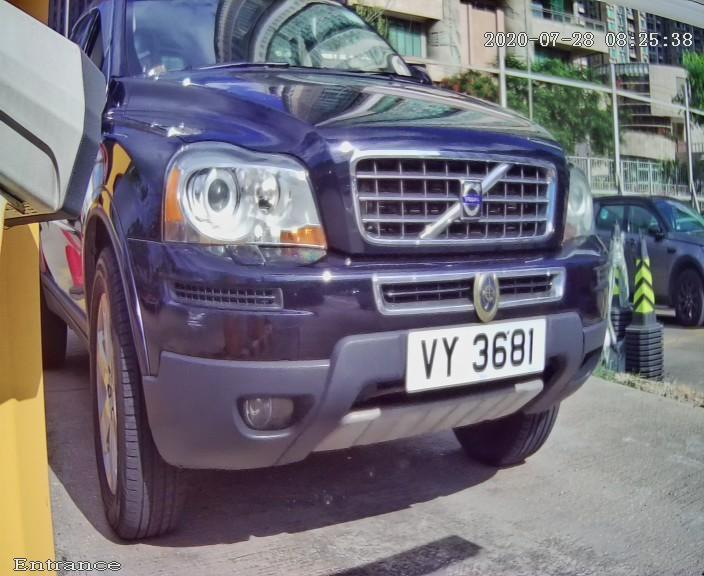privatecar: (7, 11, 667, 548)
